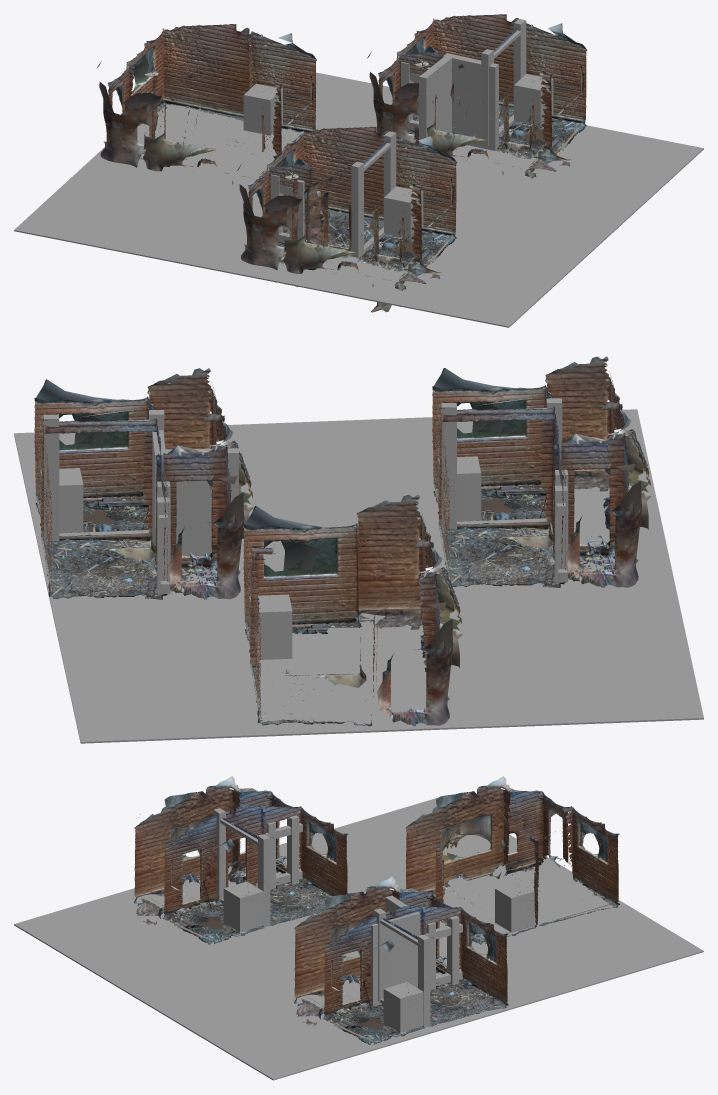
The model's file is mokki_combined_modified_compressed.glb.
The picture shows the model from 3 angles, top to bottom: view 1: azimuth 30°, elevation 25°; view 2: azimuth 150°, elevation 25°; view 3: azimuth 270°, elevation 25°; orthographic projection. The views are drawn at different scales.
Visible parts, largest first — view 1: Cube, Mesh_0_Part_0012, Mesh_0_Part_0009, Mesh_0_Part_0008, Mesh_0_Part_0004, Mesh_0_Part_0010, Mesh_0_Part_0013, Mesh_0_Part_0002, Mesh_0_Part_0011, Mesh_0_Part_0001, Mesh_0_Part_0005, Mesh_0_Part_0014 (+4 smaller); view 2: Cube, Mesh_0_Part_0009, Mesh_0_Part_0004, Mesh_0_Part_0008, Mesh_0_Part_0002, Mesh_0_Part_0013, Mesh_0_Part_0015, Mesh_0_Part_0010, Mesh_0_Part_0001, Mesh_0_Part_0003, Mesh_0_Part_0011, Mesh_0_Part_0007 (+4 smaller); view 3: Cube, Mesh_0_Part_0014, Mesh_0_Part_0009, Mesh_0_Part_0002, Mesh_0_Part_0005, Mesh_0_Part_0008, Mesh_0_Part_0006, Mesh_0_Part_0004, Mesh_0_Part_0011, Mesh_0_Part_0012, Mesh_0_Part_0010, Mesh_0_Part_0013 (+1 smaller).
Part boxes in pixels (left/top/right/bottom): Cube: left=14, top=19, right=703, bottom=327; Mesh_0_Part_0012: left=126, top=24, right=249, bottom=126; Mesh_0_Part_0009: left=266, top=126, right=388, bottom=258; Mesh_0_Part_0008: left=356, top=135, right=457, bottom=271; Mesh_0_Part_0004: left=487, top=23, right=586, bottom=158; Mesh_0_Part_0010: left=237, top=159, right=324, bottom=269; Mesh_0_Part_0013: left=245, top=31, right=316, bottom=163; Mesh_0_Part_0002: left=396, top=14, right=518, bottom=145; Mesh_0_Part_0011: left=97, top=61, right=162, bottom=167; Mesh_0_Part_0001: left=367, top=46, right=441, bottom=143; Mesh_0_Part_0005: left=275, top=172, right=410, bottom=312; Mesh_0_Part_0014: left=142, top=70, right=269, bottom=184; Cube: left=14, top=398, right=703, bottom=743; Mesh_0_Part_0009: left=438, top=406, right=564, bottom=587; Mesh_0_Part_0004: left=34, top=379, right=164, bottom=540; Mesh_0_Part_0008: left=432, top=368, right=562, bottom=528; Mesh_0_Part_0002: left=41, top=418, right=167, bottom=599; Mesh_0_Part_0013: left=243, top=506, right=362, bottom=665; Mesh_0_Part_0015: left=355, top=494, right=421, bottom=628; Mesh_0_Part_0010: left=561, top=428, right=642, bottom=587; Mesh_0_Part_0001: left=163, top=440, right=244, bottom=599; Mesh_0_Part_0003: left=545, top=356, right=609, bottom=489; Mesh_0_Part_0011: left=376, top=566, right=453, bottom=726; Mesh_0_Part_0007: left=147, top=368, right=211, bottom=449; Cube: left=14, top=797, right=703, bottom=1080; Mesh_0_Part_0014: left=406, top=776, right=512, bottom=895; Mesh_0_Part_0009: left=225, top=805, right=348, bottom=925; Mesh_0_Part_0002: left=385, top=905, right=508, bottom=1026; Mesh_0_Part_0005: left=134, top=776, right=240, bottom=906; Mesh_0_Part_0008: left=163, top=815, right=265, bottom=944; Mesh_0_Part_0006: left=294, top=876, right=400, bottom=1006; Mesh_0_Part_0004: left=323, top=915, right=425, bottom=1044; Mesh_0_Part_0011: left=496, top=784, right=570, bottom=878; Mesh_0_Part_0012: left=539, top=806, right=619, bottom=925; Mesh_0_Part_0010: left=228, top=784, right=293, bottom=884; Mesh_0_Part_0013: left=435, top=837, right=538, bottom=944.
Size of the model in its own units: 23.76 by 4.49 by 24.41.
Materials: 16 (15 with a texture image).
